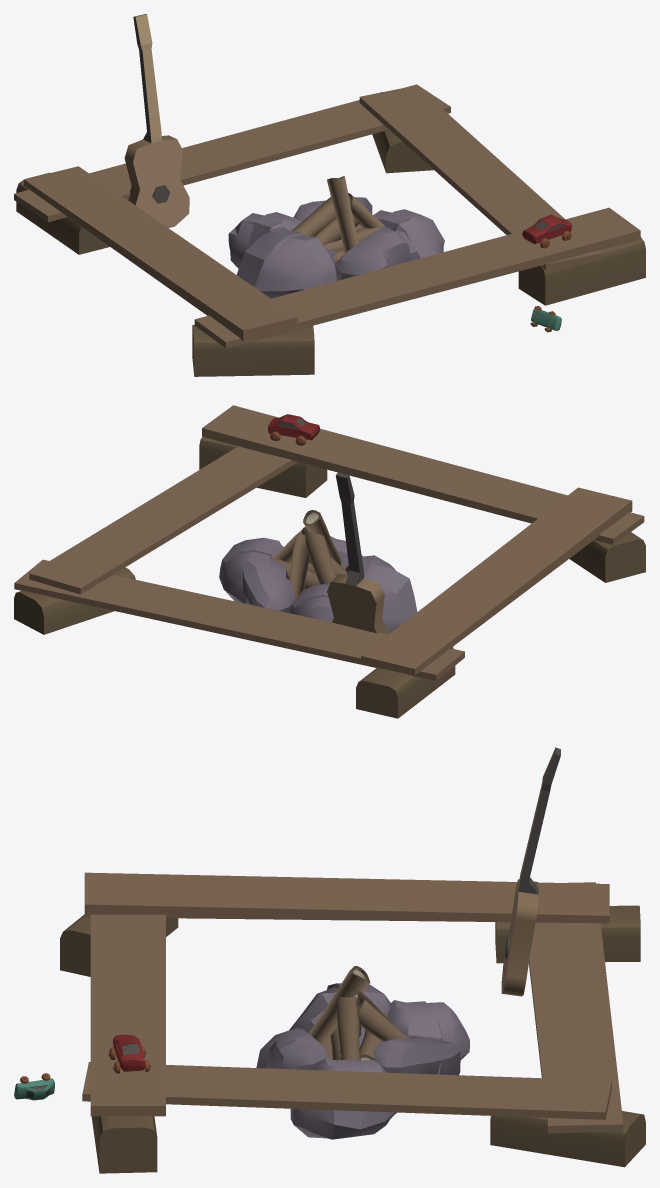
Rendered from P_firePlace_02_LD.fbx.
3 renders of one model, top to bottom at view 1: azimuth 30°, elevation 25°; view 2: azimuth 150°, elevation 25°; view 3: azimuth 270°, elevation 25°, orthographic. The views are drawn at different scales.
Visible parts, largest first — view 1: P_firePlace_02; view 2: P_firePlace_02; view 3: P_firePlace_02.
Part boxes in pixels (left/top/right/bottom): P_firePlace_02: left=14, top=14, right=645, bottom=376; P_firePlace_02: left=14, top=405, right=645, bottom=718; P_firePlace_02: left=14, top=747, right=645, bottom=1173.
Size of the model in its own units: 3.81 by 2.01 by 3.96.
Materials: 1 (1 with a texture image).
